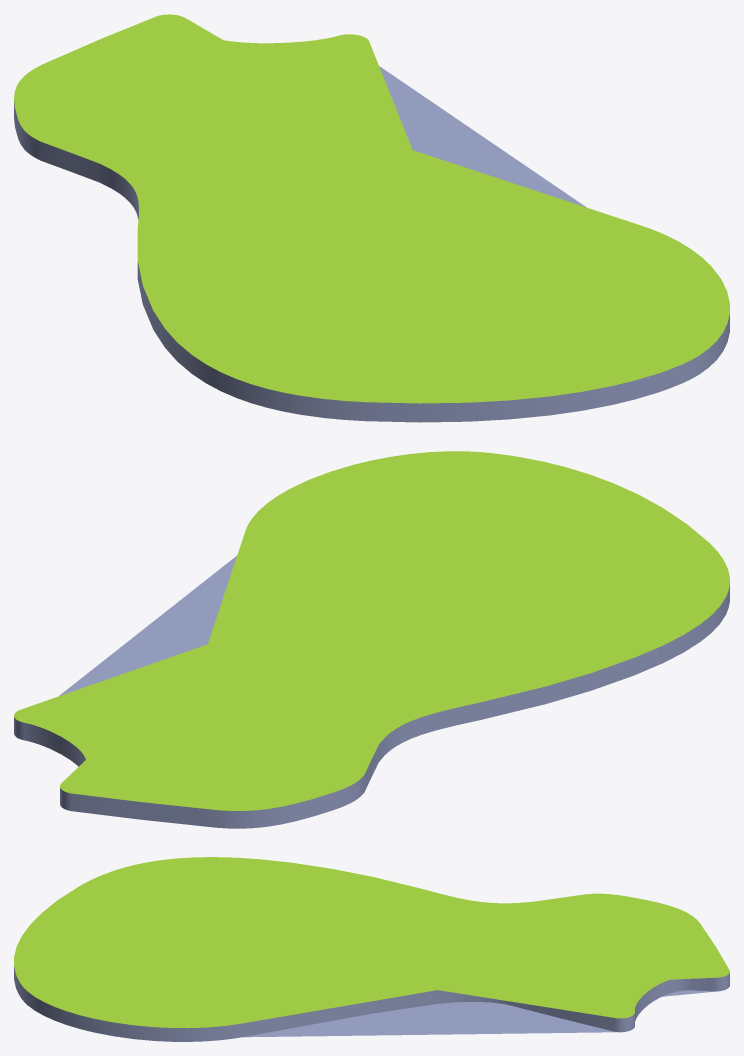
Rendered from Lastholes40.fbx.
3 views of the same model, one above another, from view 1: azimuth 30°, elevation 25°; view 2: azimuth 150°, elevation 25°; view 3: azimuth 270°, elevation 25° (orthographic). The views are drawn at different scales.
Visible parts, largest first — view 1: mainRes_2; view 2: mainRes_2; view 3: mainRes_2.
Boxes of the visible parts, x1=… form: mainRes_2: x1=14, y1=14, x2=729, y2=422; mainRes_2: x1=14, y1=451, x2=729, y2=828; mainRes_2: x1=14, y1=857, x2=729, y2=1041.
Size of the model in its own units: 798 by 30 by 1411.
